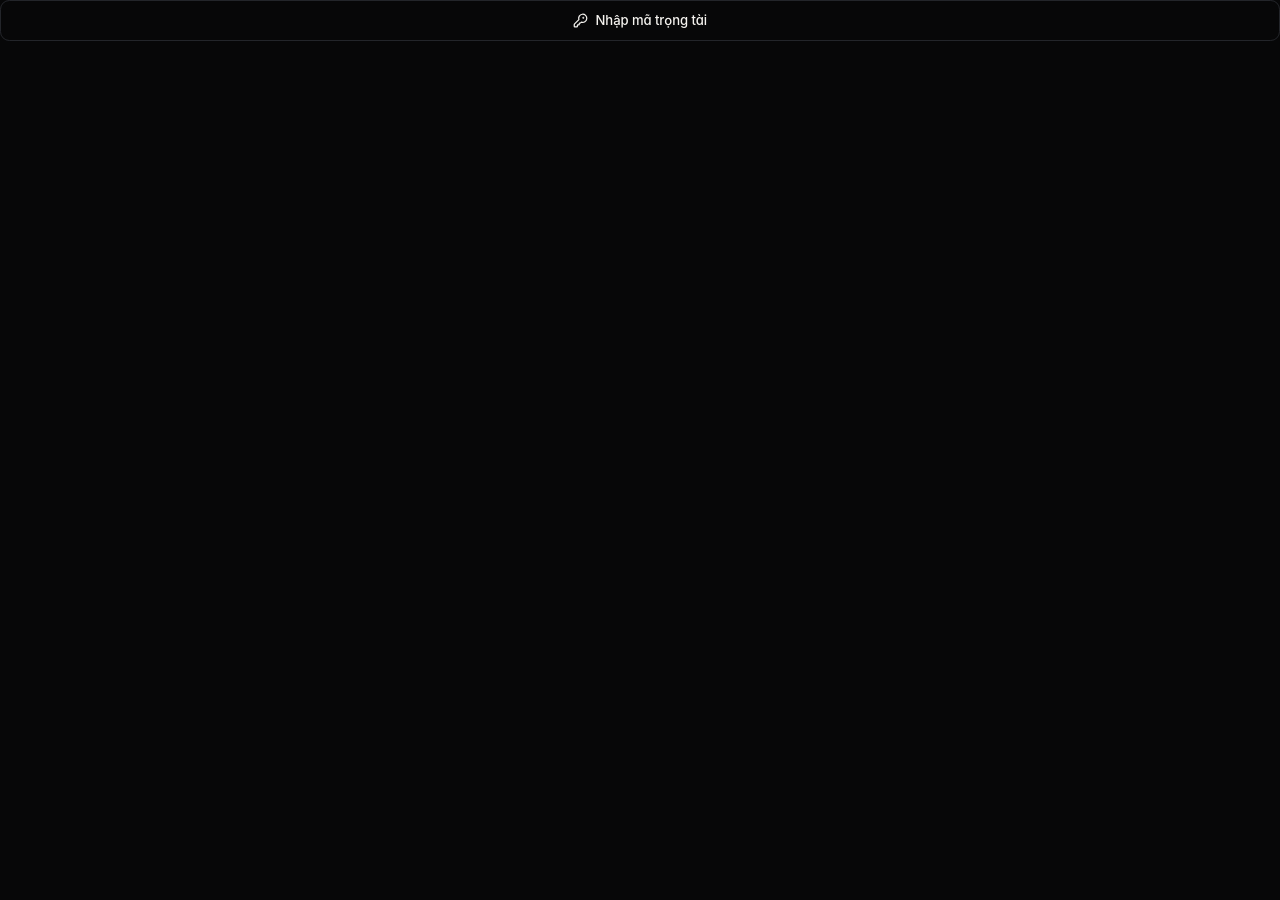
Scenario: RefereeJoinByPin — logged in › shows the rate_limited error inline
This screenshot has width=1280, height=900.
Click the button "Nhập mã trọng tài".
click(640, 21)  # box left=0, top=0, right=1279, bottom=41
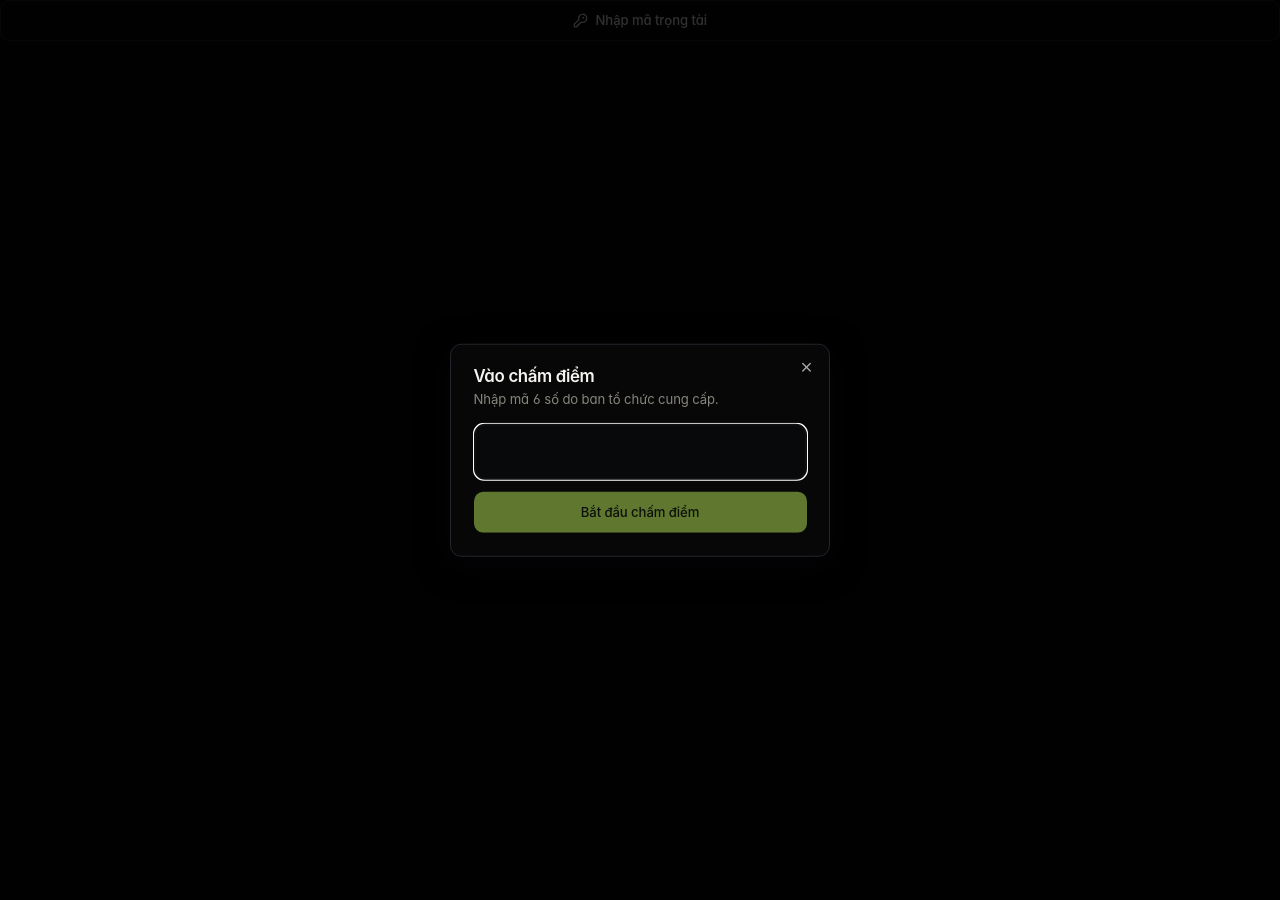
Type "000000" into the field named "Mã PIN trọng tài".
click(640, 452); type("000000")  # box left=474, top=424, right=806, bottom=480
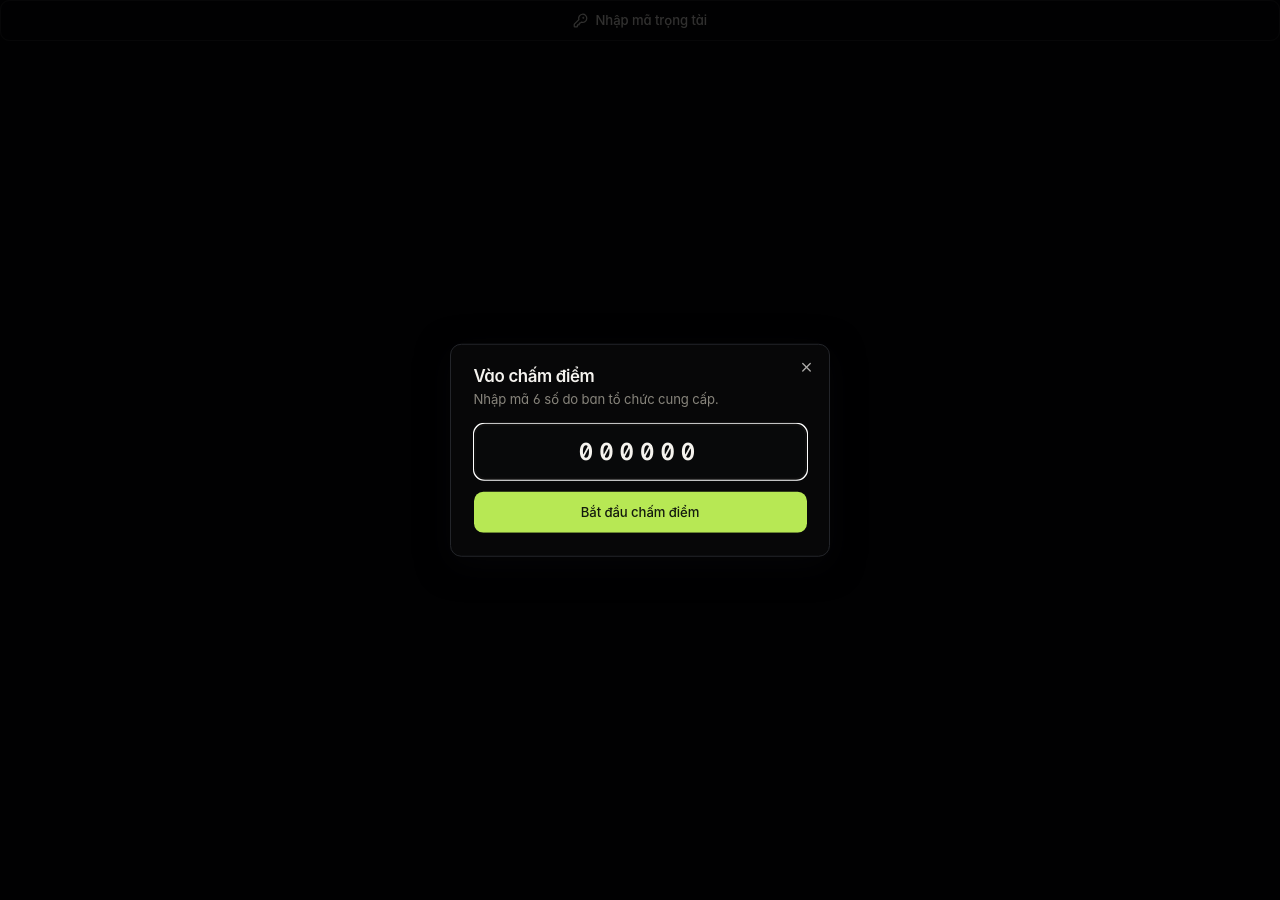
Click the button "Bắt đầu chấm điểm".
click(640, 512)  # box left=474, top=492, right=806, bottom=533
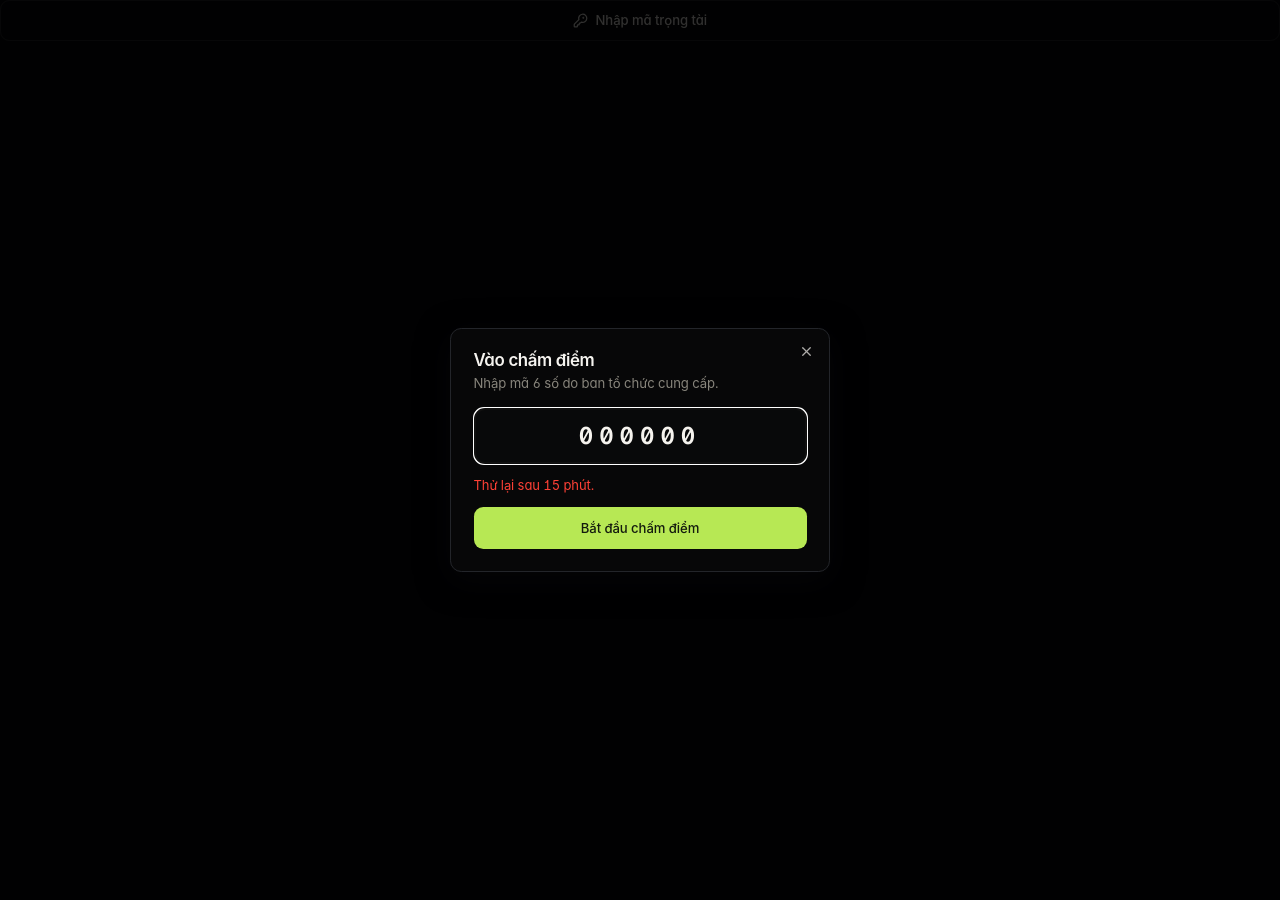
Expected: the message reads "Thử lại sau 15 phút.", left=474, top=477, right=594, bottom=493
